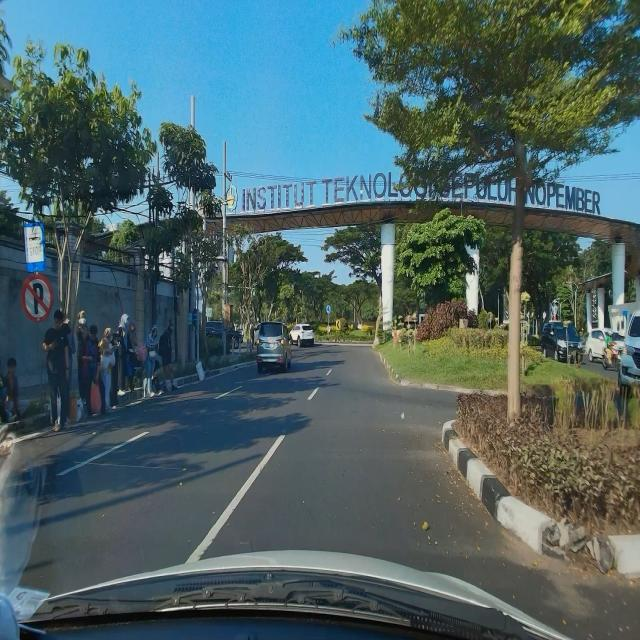car: (255, 320, 292, 373)
